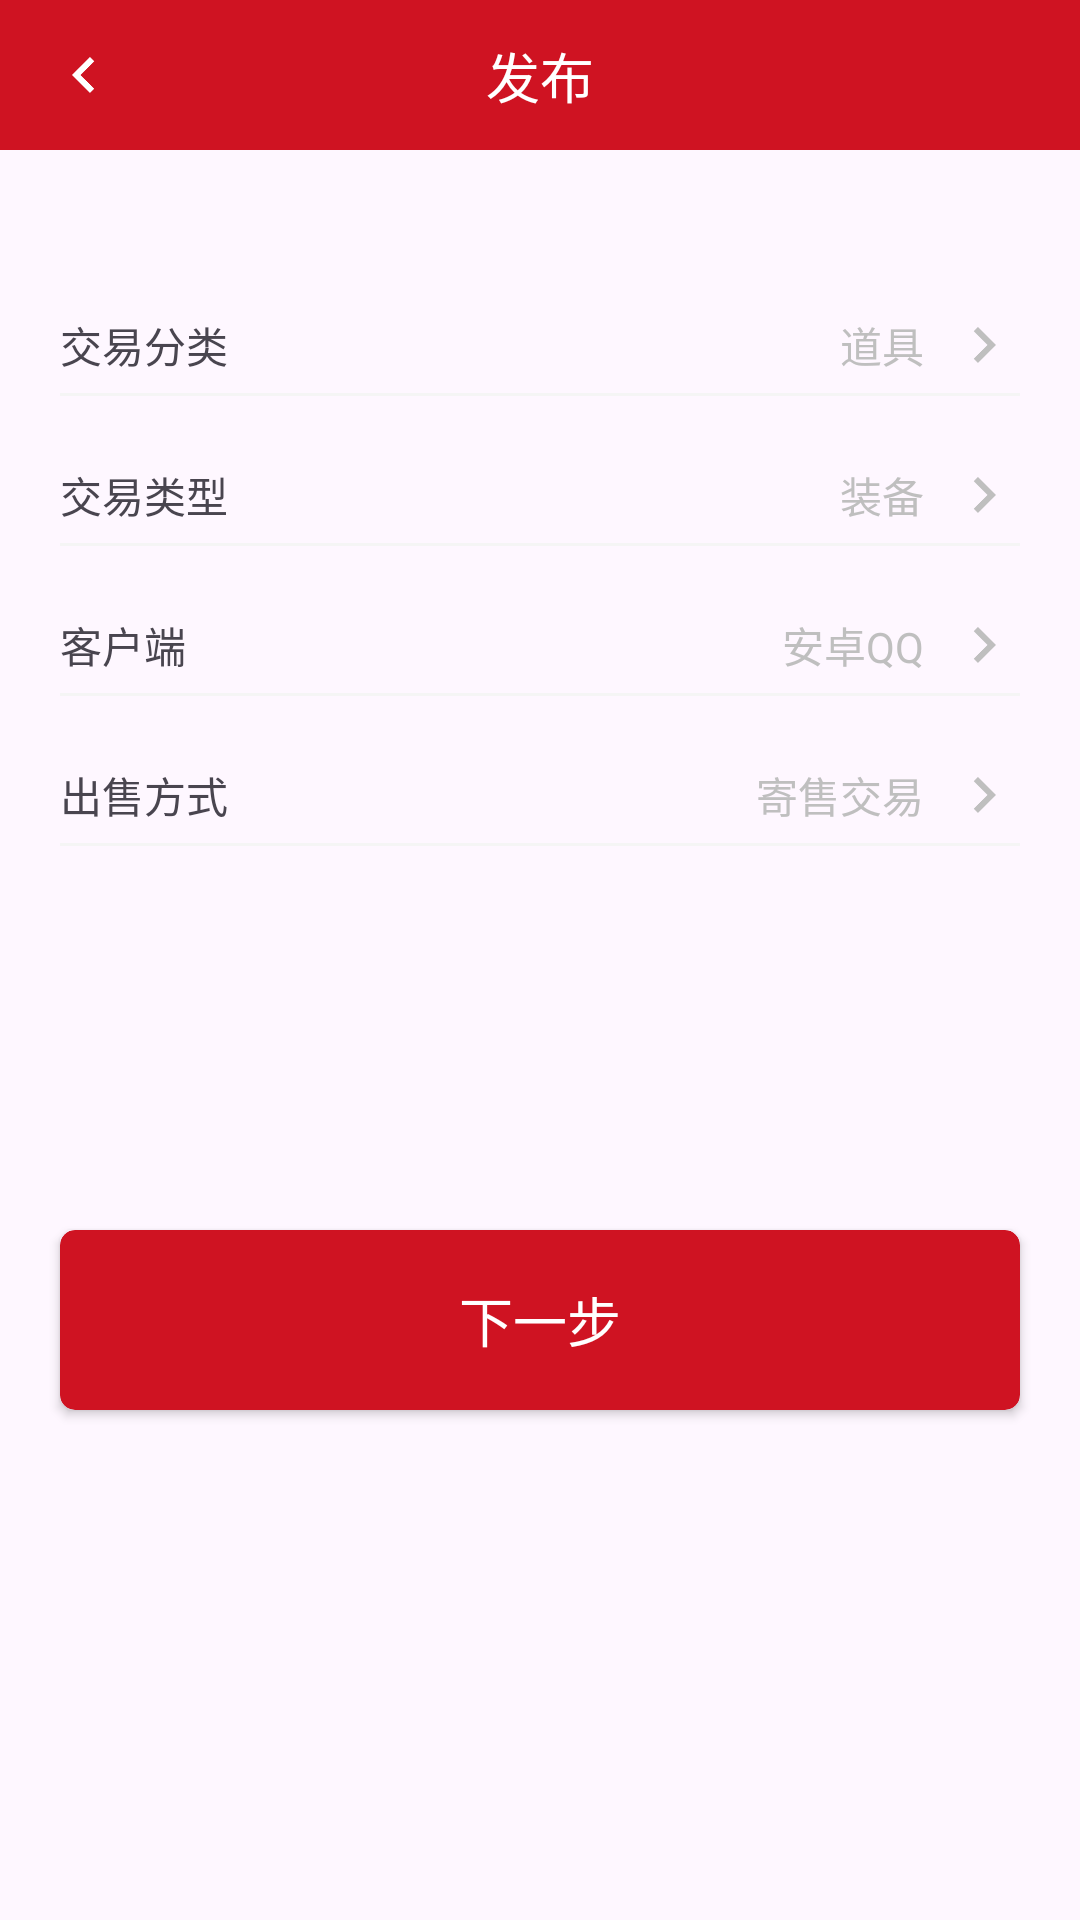

Screen size 1080x1920. Icon name, then its box in pixels as region(x1, y1, x2, y2):
left arrow: region(72, 57, 94, 93)
right arrow: region(974, 327, 996, 363), region(974, 477, 996, 513), region(974, 627, 996, 663), region(974, 777, 996, 813)
